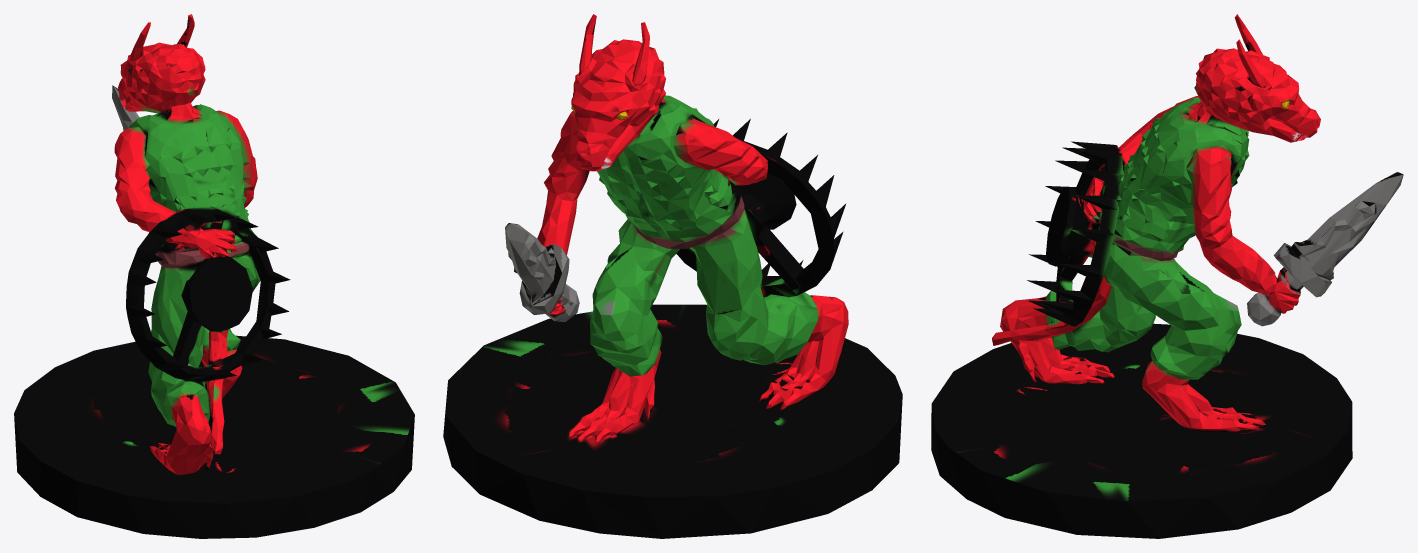
The model's file is kobold_rogue.fbx.
3 views of the same model, side by side, from view 1: azimuth 30°, elevation 25°; view 2: azimuth 150°, elevation 25°; view 3: azimuth 270°, elevation 25° (orthographic). The views are drawn at different scales.
Visible parts, largest first — view 1: Kobold_trapper; view 2: Kobold_trapper; view 3: Kobold_trapper.
Part boxes in pixels (x1,y1,x2,y2): Kobold_trapper: [14, 14, 414, 538]; Kobold_trapper: [443, 14, 902, 538]; Kobold_trapper: [931, 14, 1403, 538].
Size of the model in its own units: 2467 by 2744 by 2764.
1 material, 1 textured.
